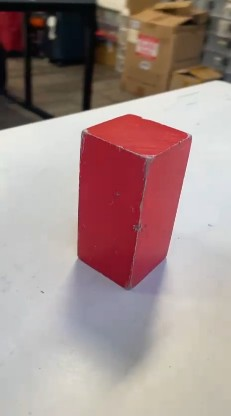red: (88, 100, 173, 296)
